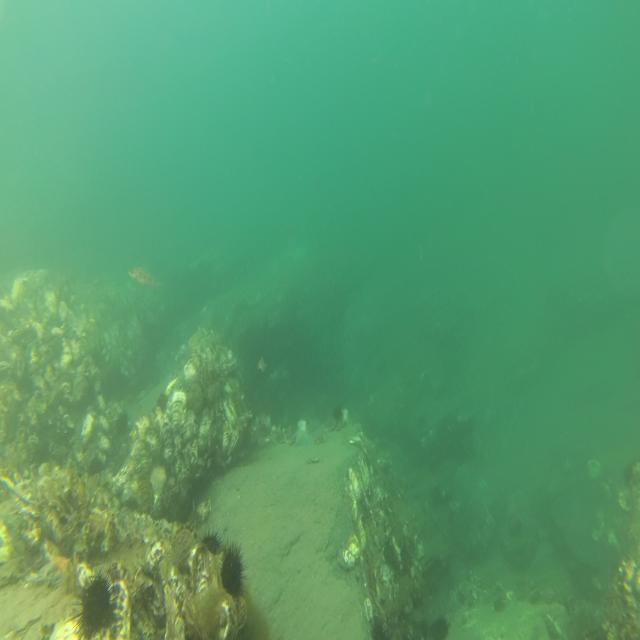echinus: (73, 570, 120, 639), (218, 541, 248, 599), (198, 527, 223, 560)
starfish: (40, 554, 74, 587)
